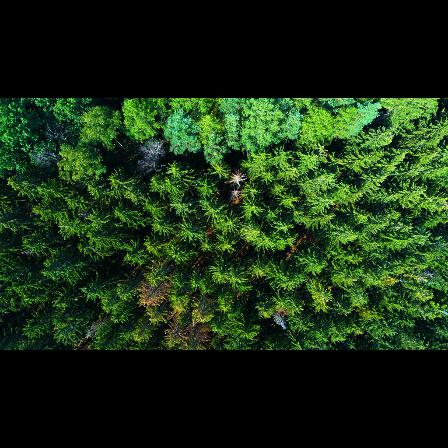Dead: (133, 137, 169, 177), (32, 149, 63, 171), (227, 165, 249, 187), (46, 122, 71, 141), (269, 310, 290, 331), (224, 188, 246, 201)
